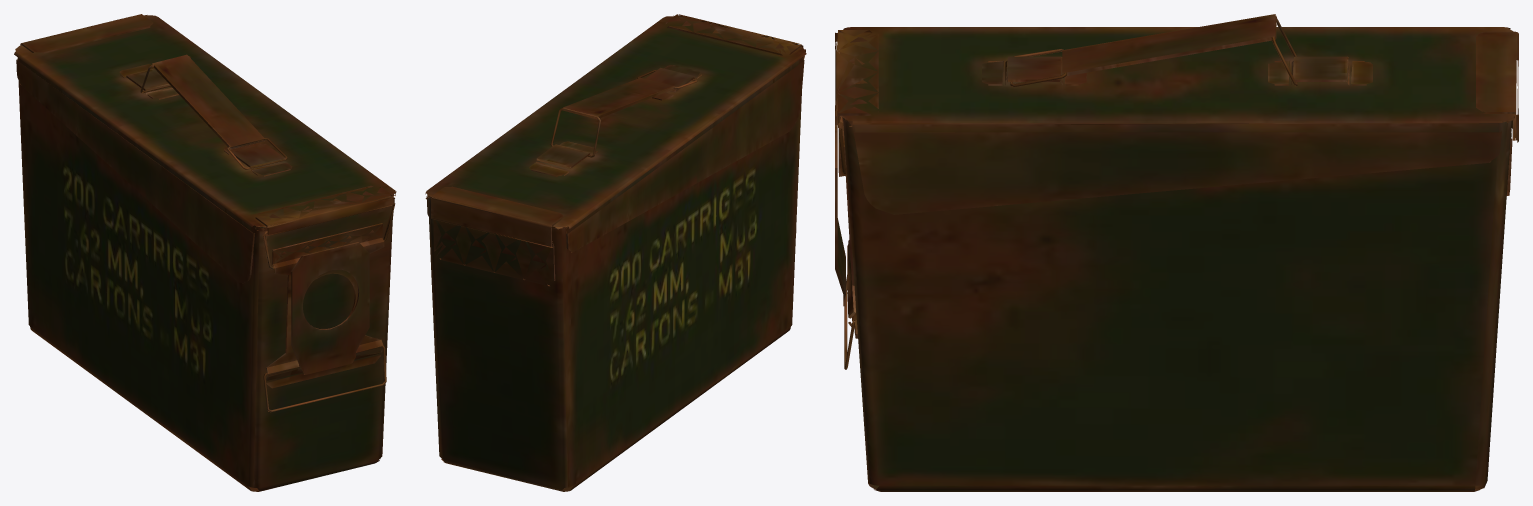
File: ammo_box.gltf
The picture shows the model from 3 angles, left to right: view 1: azimuth 30°, elevation 25°; view 2: azimuth 150°, elevation 25°; view 3: azimuth 270°, elevation 25°; orthographic projection. The views are drawn at different scales.
Visible parts, largest first — view 1: ammo_box, ammo_box_handle, ammo_box_latch; view 2: ammo_box, ammo_box_handle; view 3: ammo_box, ammo_box_handle.
Part boxes in pixels (<box>): ammo_box: <box>14,14,396,491</box>; ammo_box_handle: <box>152,54,265,149</box>; ammo_box_latch: <box>263,345,386,412</box>; ammo_box: <box>425,14,806,491</box>; ammo_box_handle: <box>562,77,674,119</box>; ammo_box: <box>835,27,1518,491</box>; ammo_box_handle: <box>1062,14,1276,76</box>.
Size of the model in its own units: 0.0863 by 0.1773 by 0.2579.
1 material, 1 textured.
